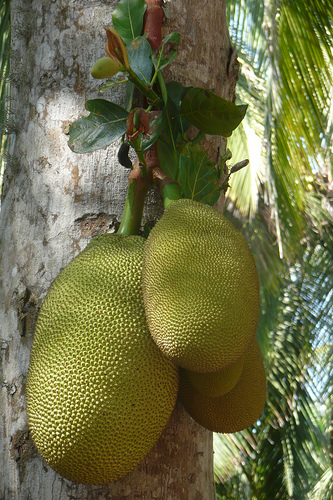jackfruit: (21, 229, 182, 487), (135, 170, 266, 371), (179, 335, 267, 432), (185, 356, 245, 401)
